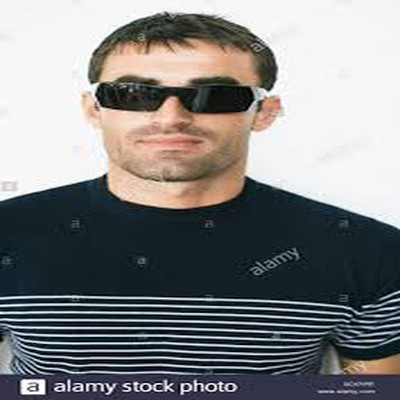eywear: (73, 60, 277, 147)
